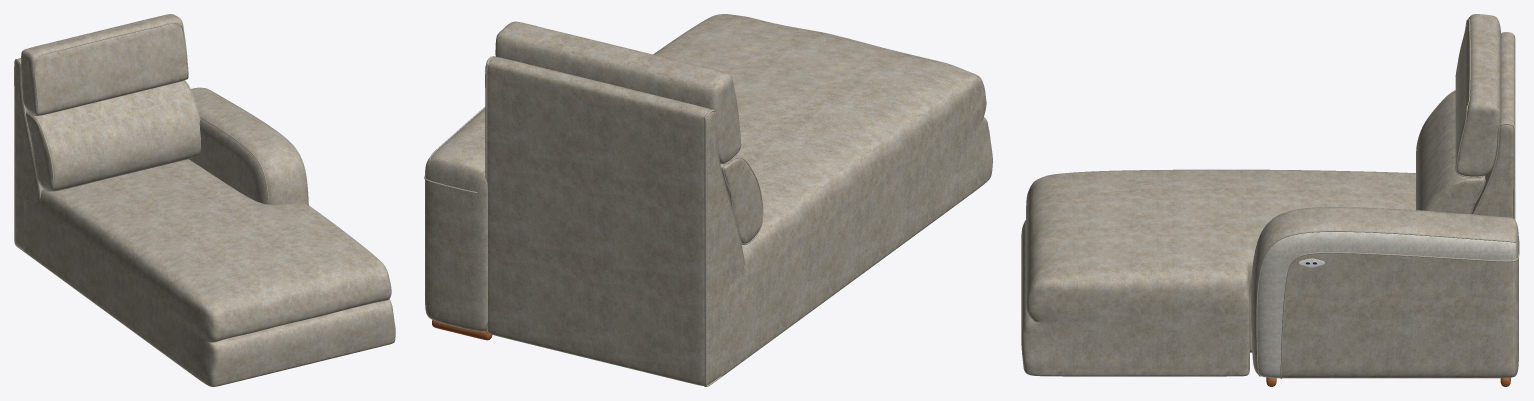
The model's file is chaise.glb.
The picture shows the model from 3 angles, left to right: view 1: azimuth 30°, elevation 25°; view 2: azimuth 150°, elevation 25°; view 3: azimuth 270°, elevation 25°; orthographic projection. The views are drawn at different scales.
Size of the model in its own units: 1.01 by 1.03 by 1.78.
5 materials, 3 textured.
